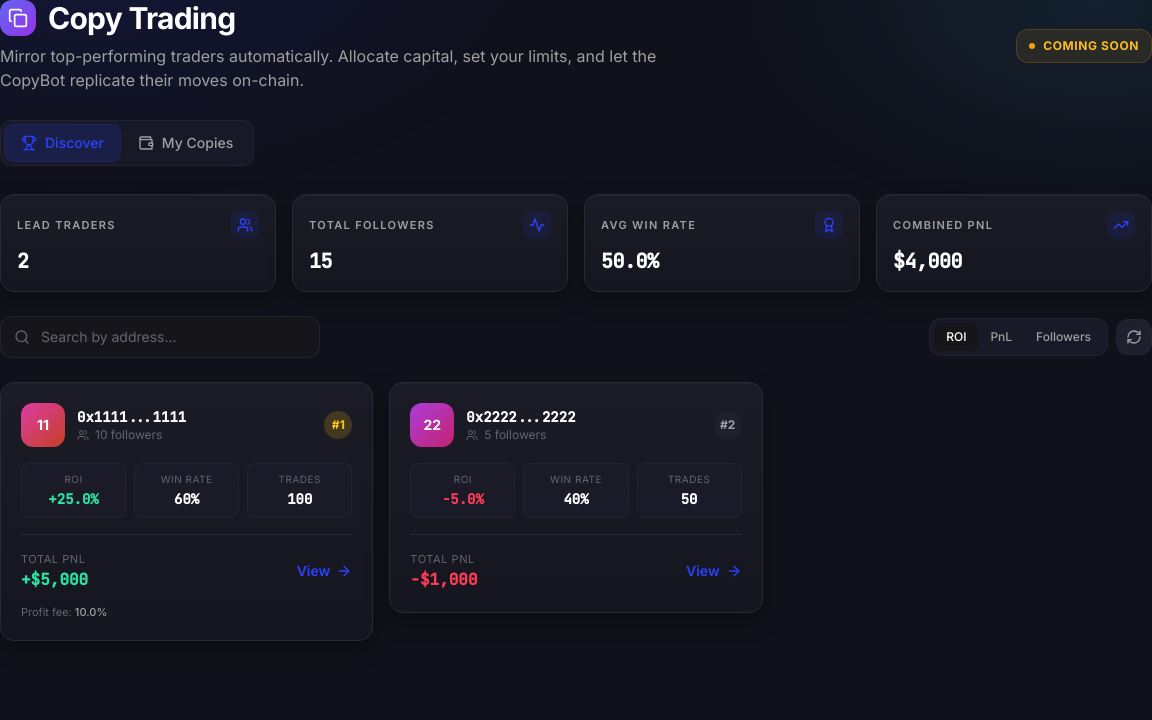
Test: CopyTradingPage › shows error in My Copies tab
This screenshot has width=1152, height=720.
Click the button "My Copies" at (186, 143), box [122, 125, 249, 161]
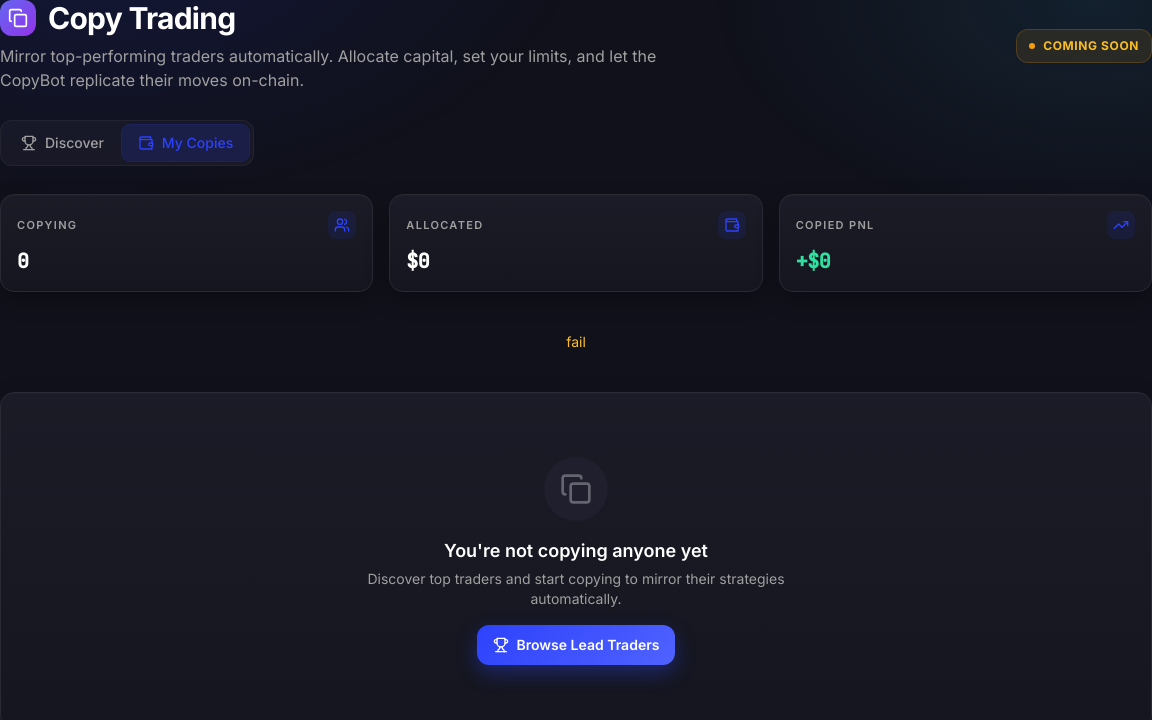
Check: the message reads "fail", box [566, 333, 586, 350]
